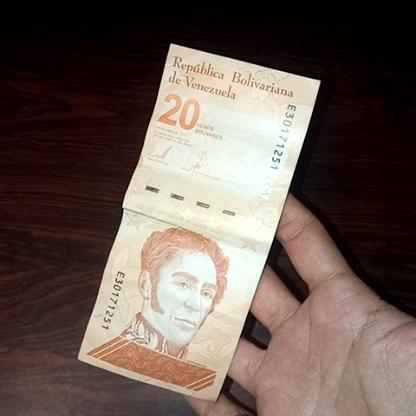twenty-front-vef: (76, 41, 322, 408)
